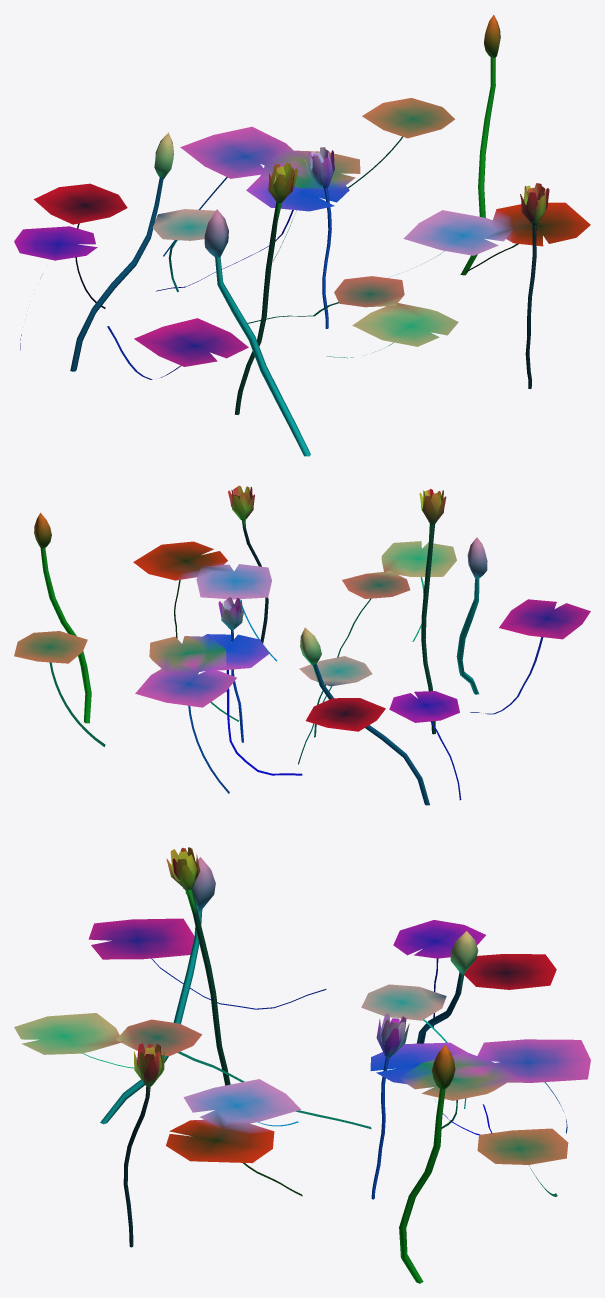
The model's file is Rembrandt_Water_Lily_uc2kajgia_Mid_uc2kajgia_VarC_LOD0.fbx.
The picture shows the model from 3 angles, top to bottom: view 1: azimuth 30°, elevation 25°; view 2: azimuth 150°, elevation 25°; view 3: azimuth 270°, elevation 25°; orthographic projection. The views are drawn at different scales.
Visible parts, largest first — view 1: _f363_VarC_LOD1; view 2: _f363_VarC_LOD1; view 3: _f363_VarC_LOD1.
Part boxes in pixels (x1,y1,x2,y2): _f363_VarC_LOD1: (14, 15, 590, 456); _f363_VarC_LOD1: (14, 485, 590, 805); _f363_VarC_LOD1: (14, 847, 590, 1283).
Size of the model in its own units: 139 by 70.39 by 132.
